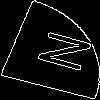N: (24, 25, 94, 75)
